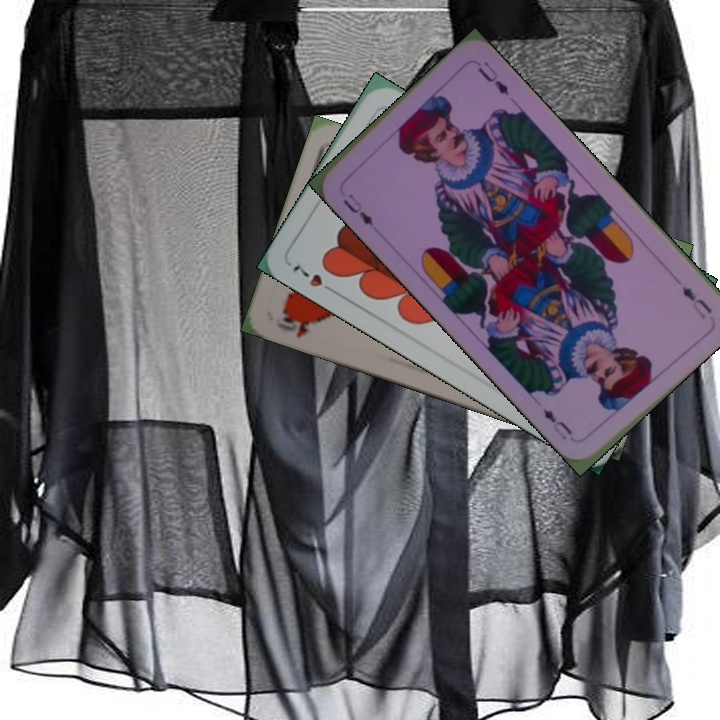EU: (338, 189, 377, 229), (677, 282, 715, 322)
H7: (288, 260, 340, 297)
HO: (273, 308, 319, 341)
